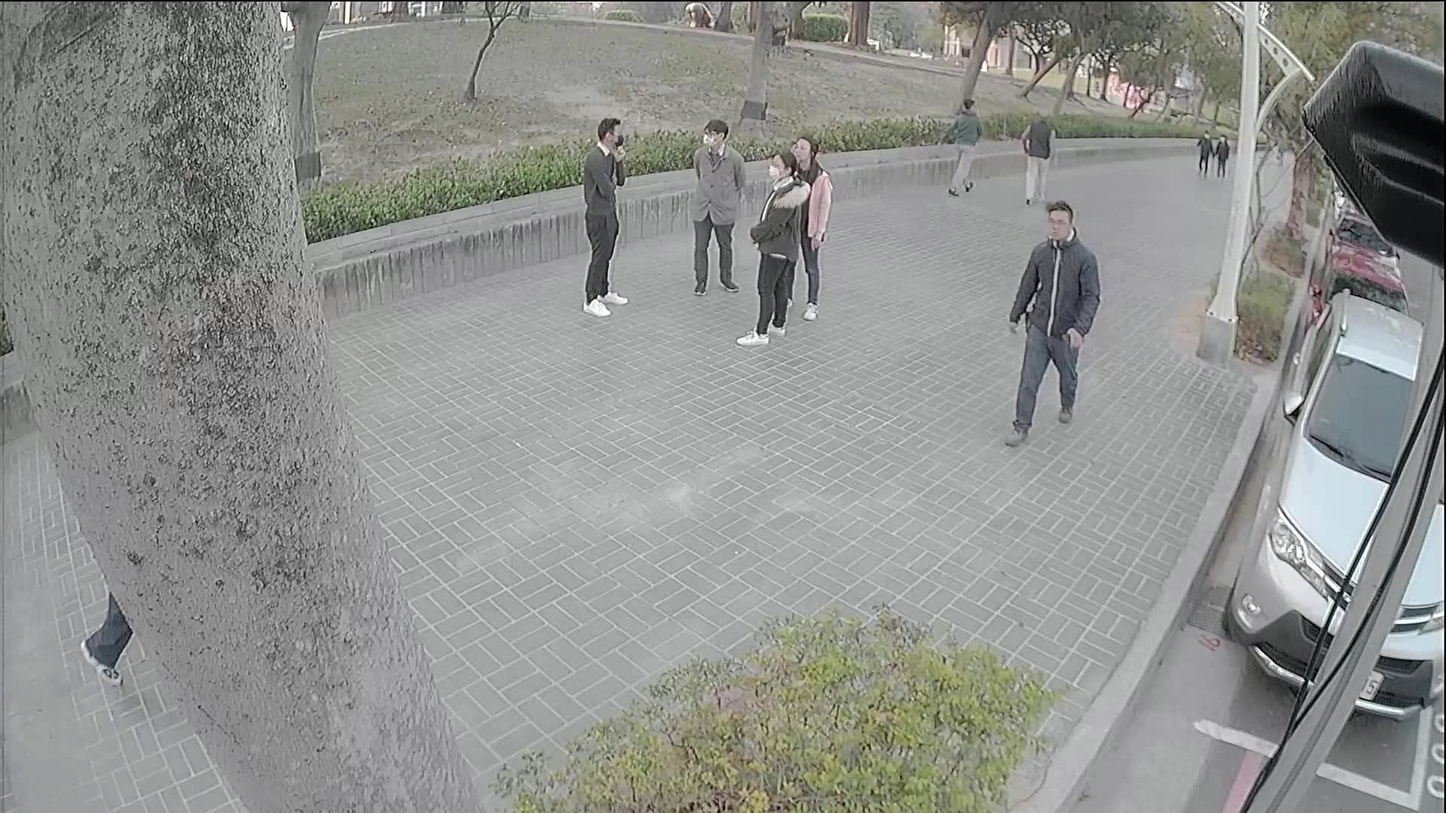person: (996, 195, 1106, 446), (732, 146, 807, 349), (774, 124, 834, 323), (691, 120, 740, 300), (583, 115, 627, 313), (1014, 105, 1062, 201), (943, 95, 982, 196), (1205, 132, 1232, 175), (1193, 127, 1215, 175)
